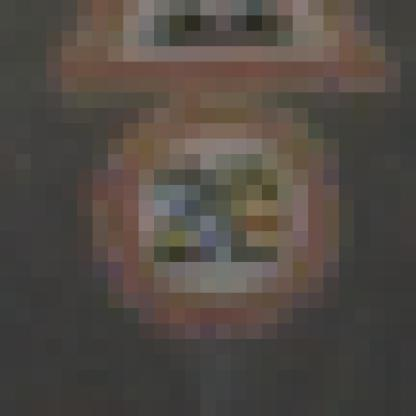Speed Limit 20: (97, 91, 340, 333)
